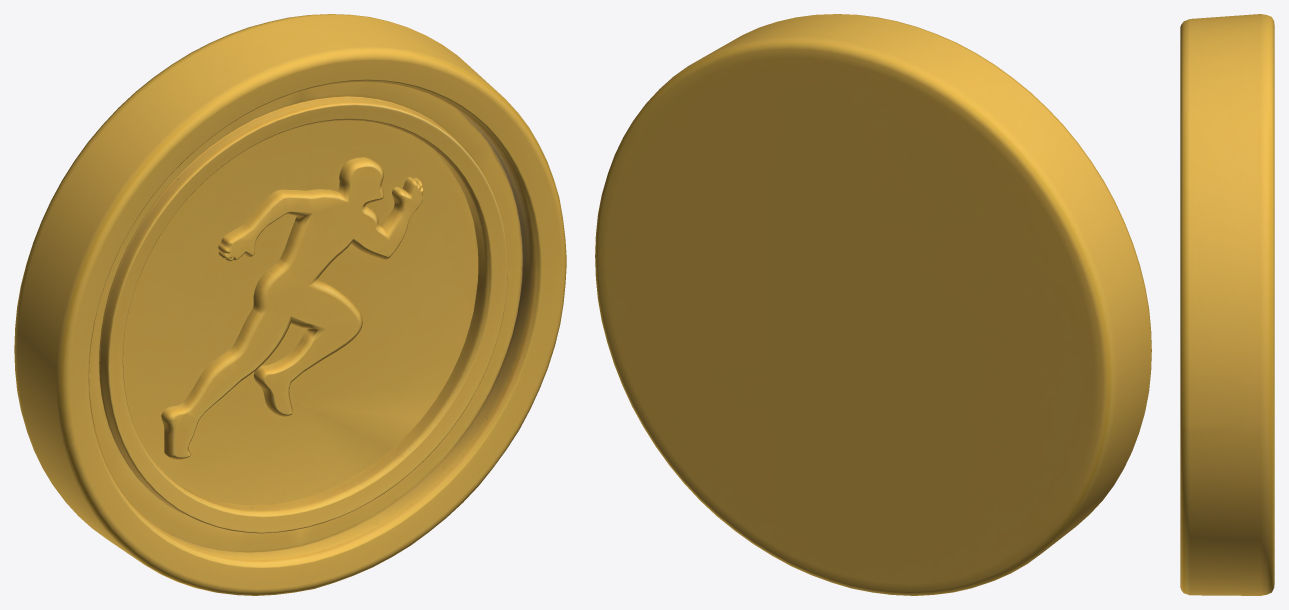
Rendered from prop_coin.glb.
3 views of the same model, side by side, from view 1: azimuth 30°, elevation 25°; view 2: azimuth 150°, elevation 25°; view 3: azimuth 270°, elevation 25° (orthographic). The views are drawn at different scales.
Visible parts, largest first — view 1: tripo_node_52ab1e58-2330-428c-bb9e-f12568823f3e; view 2: tripo_node_52ab1e58-2330-428c-bb9e-f12568823f3e; view 3: tripo_node_52ab1e58-2330-428c-bb9e-f12568823f3e.
Boxes of the visible parts, box(x1,y1,x2,y2) form: tripo_node_52ab1e58-2330-428c-bb9e-f12568823f3e: box(14, 14, 566, 595); tripo_node_52ab1e58-2330-428c-bb9e-f12568823f3e: box(595, 14, 1151, 595); tripo_node_52ab1e58-2330-428c-bb9e-f12568823f3e: box(1180, 14, 1274, 595).
Bounding box in the file's own units: 0.9995 × 0.9995 × 0.1626.
Materials: 1 (1 with a texture image).
